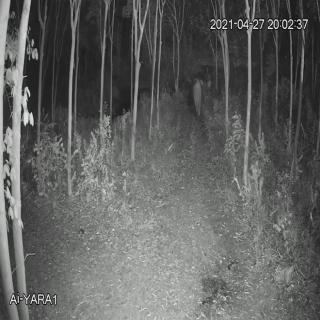Elephant: (190, 71, 210, 124)
